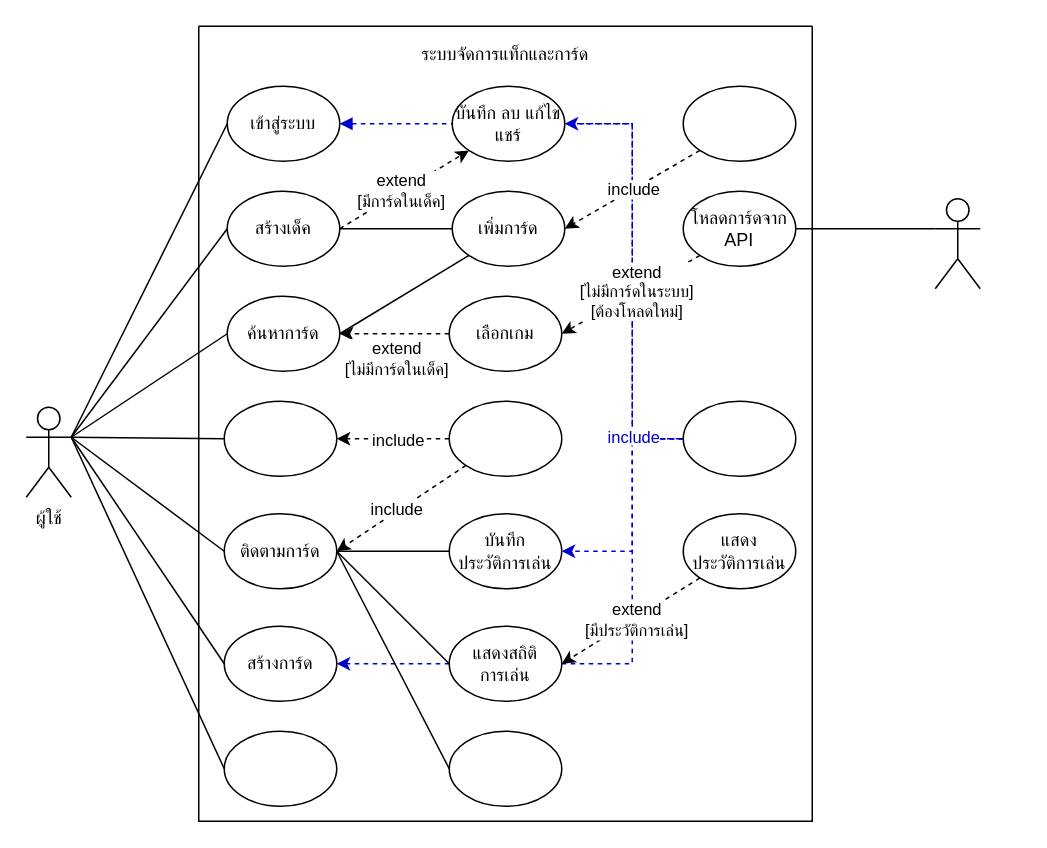
Some shapes in this 1047 by 848 pixel diagram are drawn without their labels. Here are the shapes that lost their labels. From the top down, the centre of each, then its label:
the point at 739,123: เขียนแท็ก
the point at 957,243: ผู้ให้บริการภายนอก
the point at 280,438: ตรวจสอบแท็ก
the point at 505,438: อ่านแท็ก
the point at 739,438: sync ข้อมูล กับ firebase
the point at 280,768: ตั้งค่าแอป
the point at 505,768: สร้างห้อง เล่นการ์ด
